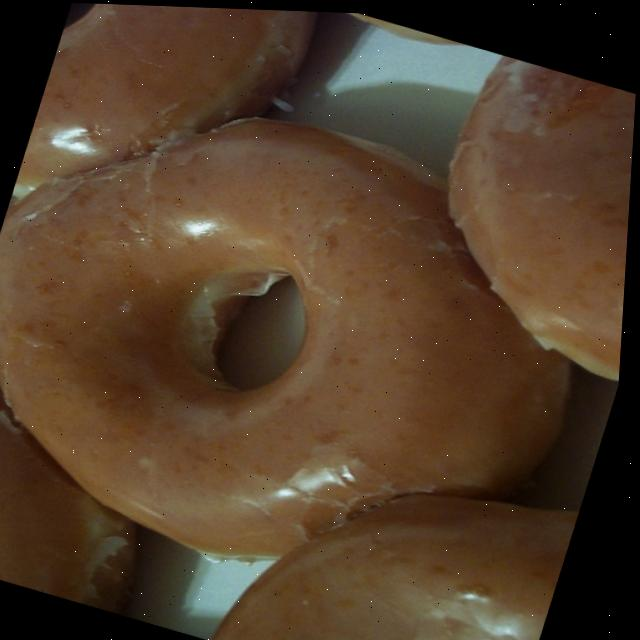炸货点心: (0, 41, 616, 640)
